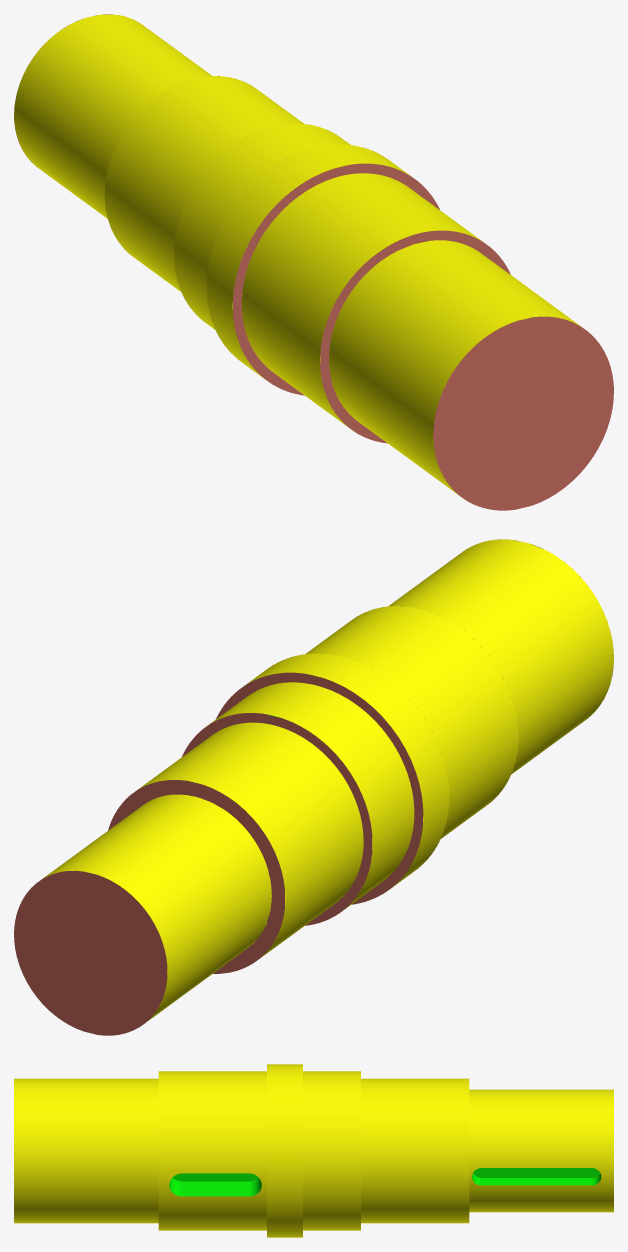
File: zhoutaoleilingjian.FBX
The picture shows the model from 3 angles, top to bottom: view 1: azimuth 30°, elevation 25°; view 2: azimuth 150°, elevation 25°; view 3: azimuth 270°, elevation 25°; orthographic projection. The views are drawn at different scales.
Visible parts, largest first — view 1: TRM_SRF (×15); view 2: TRM_SRF (×16); view 3: TRM_SRF (×16).
Boxes of the visible parts, bbox=[...] form: TRM_SRF (×15): bbox=[14, 14, 613, 510]; TRM_SRF (×16): bbox=[14, 539, 613, 1035]; TRM_SRF (×16): bbox=[14, 1064, 613, 1237].
Size of the model in its own units: 9.45 by 9.45 by 32.68.
